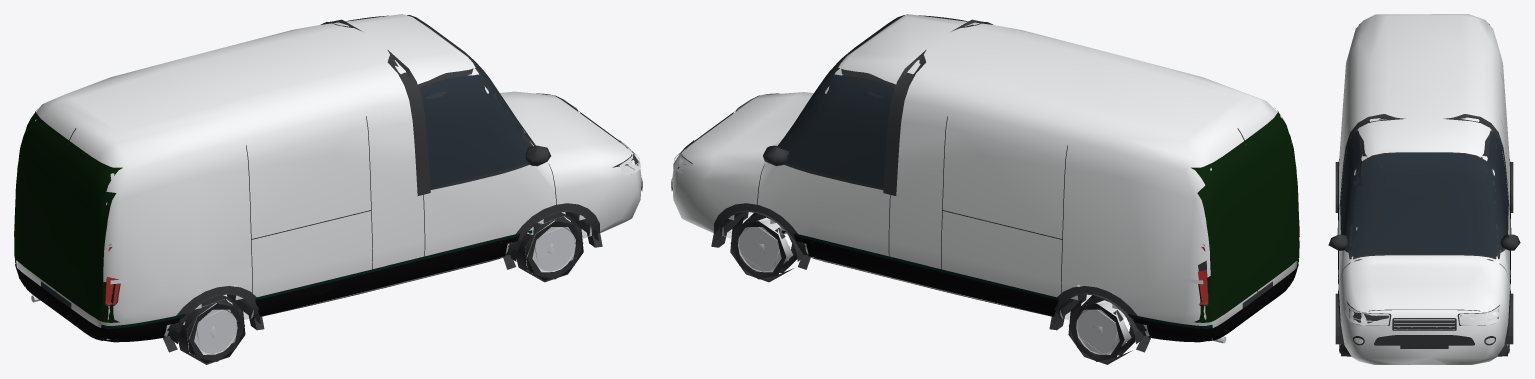
The model's file is livr_expr_far.glb.
The picture shows the model from 3 angles, left to right: view 1: azimuth 30°, elevation 25°; view 2: azimuth 150°, elevation 25°; view 3: azimuth 270°, elevation 25°; orthographic projection. The views are drawn at different scales.
Parts seen in each view (by area): view 1: Body, LeRearGreen, Glass-1, LeSill-1, WheelRR, WheelFR, Bpillar-1, LeRearSill, ArchTrim-1, LeTeal-1, ArchTrim-1.001, WinFrame-1 (+2 smaller); view 2: Body, LeRearGreen, Glass1, LeSill1, WheelRL, WheelFL, Bpillar1, ArchTrim1, LeTeal1, LeRearSill, ArchTrim1.001, WinFrame1 (+2 smaller); view 3: Body, Windshield, Glass1, Glass-1, Intake, HeadReflector, Grille, WsFrame, HeadBezel, Bpillar-1, Bpillar1, ArchLiner (+8 smaller).
Boxes of the visible parts, x1,y1,x2,y2 form: Body: (16, 14, 641, 339); LeRearGreen: (14, 109, 122, 322); Glass-1: (419, 74, 535, 188); LeSill-1: (93, 236, 519, 342); WheelRR: (178, 295, 245, 364); WheelFR: (516, 212, 583, 282); Bpillar-1: (387, 49, 430, 195); LeRearSill: (15, 263, 115, 340); ArchTrim-1: (503, 203, 602, 269); LeTeal-1: (101, 230, 532, 328); ArchTrim-1.001: (163, 286, 264, 352); WinFrame-1: (418, 68, 532, 189); Body: (672, 14, 1297, 339); LeRearGreen: (1191, 108, 1299, 322); Glass1: (778, 74, 894, 187); LeSill1: (794, 236, 1220, 342); WheelRL: (1068, 295, 1135, 364); WheelFL: (730, 212, 797, 282); Bpillar1: (883, 49, 926, 195); ArchTrim1: (711, 203, 810, 269); LeTeal1: (781, 230, 1212, 328); LeRearSill: (1193, 264, 1298, 341); ArchTrim1.001: (1049, 286, 1150, 352); WinFrame1: (784, 68, 895, 189); Body: (1338, 14, 1510, 364); Windshield: (1351, 153, 1497, 257); Glass1: (1476, 132, 1508, 250); Glass-1: (1340, 132, 1363, 250); Intake: (1374, 335, 1474, 345); HeadReflector: (1345, 305, 1502, 325); Grille: (1392, 318, 1456, 330); WsFrame: (1348, 152, 1500, 259); HeadBezel: (1346, 301, 1499, 325); Bpillar-1: (1339, 114, 1405, 209); Bpillar1: (1443, 114, 1509, 209); ArchLiner: (1505, 293, 1513, 344).
Bounding box in the file's own units: 5.62 × 2.29 × 2.15.
